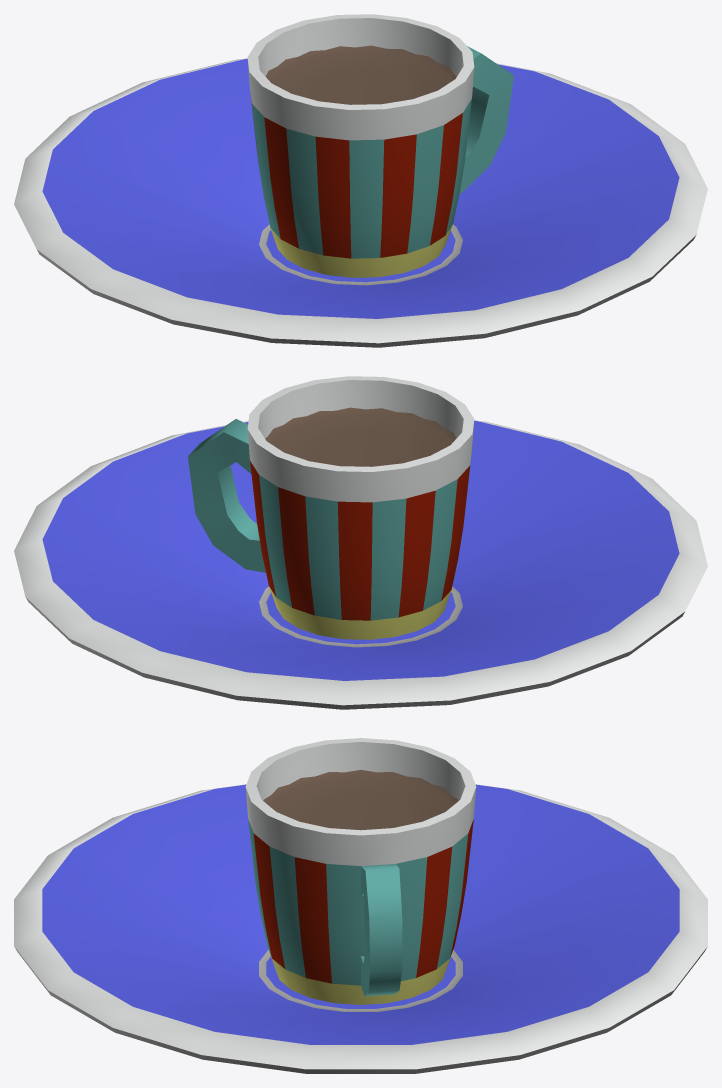
Rendered from cup.fbx.
The picture shows the model from 3 angles, top to bottom: view 1: azimuth 30°, elevation 25°; view 2: azimuth 150°, elevation 25°; view 3: azimuth 270°, elevation 25°; orthographic projection.
Parts seen in each view (by area): view 1: pDisc1, pCylinder1, pDisc2; view 2: pDisc1, pCylinder1, pDisc2; view 3: pDisc1, pCylinder1, pDisc2.
Part boxes in pixels (x1,y1,x2,y2): pDisc1: (14, 58, 707, 347); pCylinder1: (247, 14, 513, 277); pDisc2: (265, 45, 456, 104); pDisc1: (14, 420, 707, 709); pCylinder1: (188, 376, 474, 639); pDisc2: (265, 407, 456, 466); pDisc1: (14, 784, 707, 1073); pCylinder1: (245, 738, 476, 1004); pDisc2: (263, 770, 458, 830).
Size of the model in its own units: 6.64 by 2.11 by 6.64.
